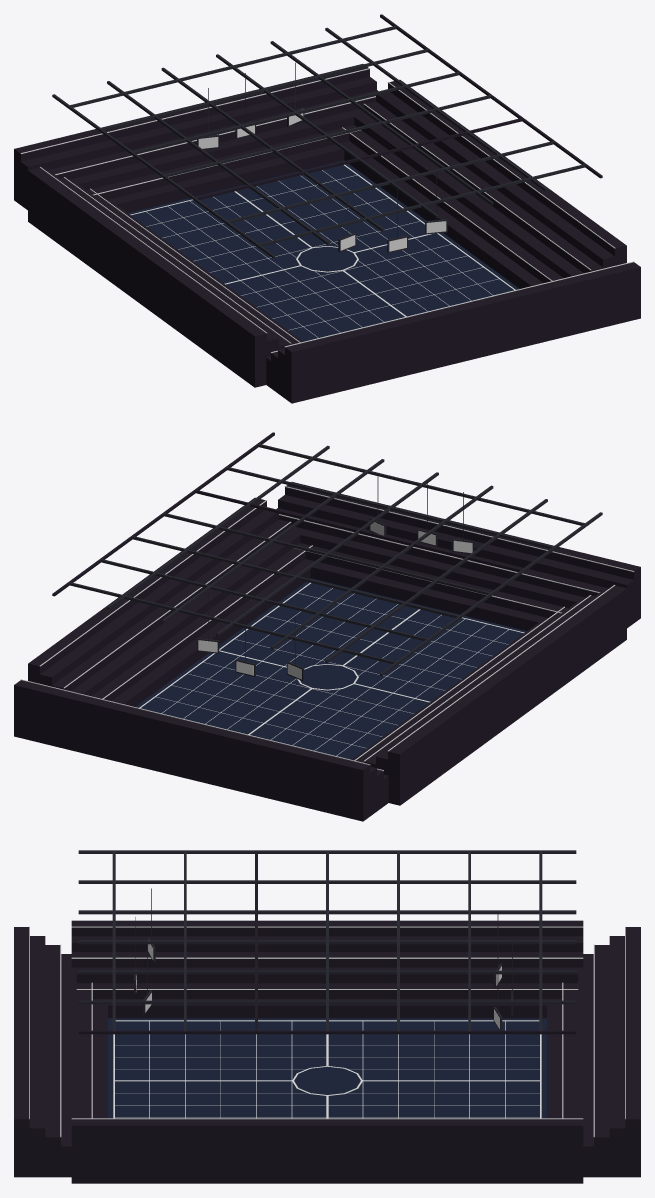
Rendered from escernario by sebita.fbx.
3 views of the same model, one above another, from view 1: azimuth 30°, elevation 25°; view 2: azimuth 150°, elevation 25°; view 3: azimuth 270°, elevation 25° (orthographic). The views are drawn at different scales.
Visible parts, largest first — view 1: Suelo, Grada_S_5, Grada_L_5, Grada_N_4, Grada_N_5, Grada_R_4, Grada_R_2, Grada_N_0, Grada_N_2, Grada_R_5, Grada_R_1, Grada_R_3 (+25 smaller); view 2: Suelo, Grada_N_5, Grada_L_5, Grada_S_4, Grada_S_5, Grada_R_4, Grada_R_2, Grada_S_2, Grada_S_0, Grada_R_5, Grada_R_1, Grada_S_3 (+25 smaller); view 3: Suelo, Grada_R_5, Grada_L_5, Grada_L_3, Grada_L_0, Grada_L_1, Grada_L_2, Grada_L_4, Grada_N_5, Grada_S_5, Grada_N_4, Grada_S_4 (+29 smaller).
Part boxes in pixels (x1,y1,x2,y2): Suelo: [128, 160, 519, 341]; Grada_S_5: [285, 262, 640, 403]; Grada_L_5: [28, 167, 266, 387]; Grada_N_4: [21, 77, 376, 210]; Grada_N_5: [14, 64, 369, 204]; Grada_R_4: [376, 92, 614, 268]; Grada_R_2: [352, 113, 583, 278]; Grada_N_0: [107, 141, 355, 212]; Grada_N_2: [69, 109, 365, 190]; Grada_R_5: [388, 79, 626, 265]; Grada_R_1: [344, 125, 563, 282]; Grada_R_3: [364, 101, 602, 273]; Suelo: [135, 578, 526, 759]; Grada_N_5: [14, 680, 369, 821]; Grada_L_5: [388, 585, 626, 805]; Grada_S_4: [278, 495, 633, 628]; Grada_S_5: [285, 482, 640, 622]; Grada_R_4: [40, 510, 278, 686]; Grada_R_2: [71, 530, 302, 696]; Grada_S_2: [290, 527, 585, 608]; Grada_S_0: [303, 559, 547, 630]; Grada_R_5: [28, 497, 266, 683]; Grada_R_1: [91, 543, 311, 700]; Grada_S_3: [276, 508, 608, 597]; Suelo: [108, 1018, 546, 1118]; Grada_R_5: [71, 1119, 583, 1183]; Grada_L_5: [71, 920, 583, 936]; Grada_L_3: [71, 952, 583, 967]; Grada_L_0: [92, 999, 562, 1018]; Grada_L_1: [77, 983, 578, 998]; Grada_L_2: [71, 967, 582, 983]; Grada_L_4: [71, 936, 583, 951]; Grada_N_5: [625, 927, 640, 1177]; Grada_S_5: [14, 927, 29, 1177]; Grada_N_4: [609, 936, 625, 1177]; Grada_S_4: [29, 936, 45, 1177].
Bounding box in the file's own units: 68.2 × 25.14 × 88.2.
